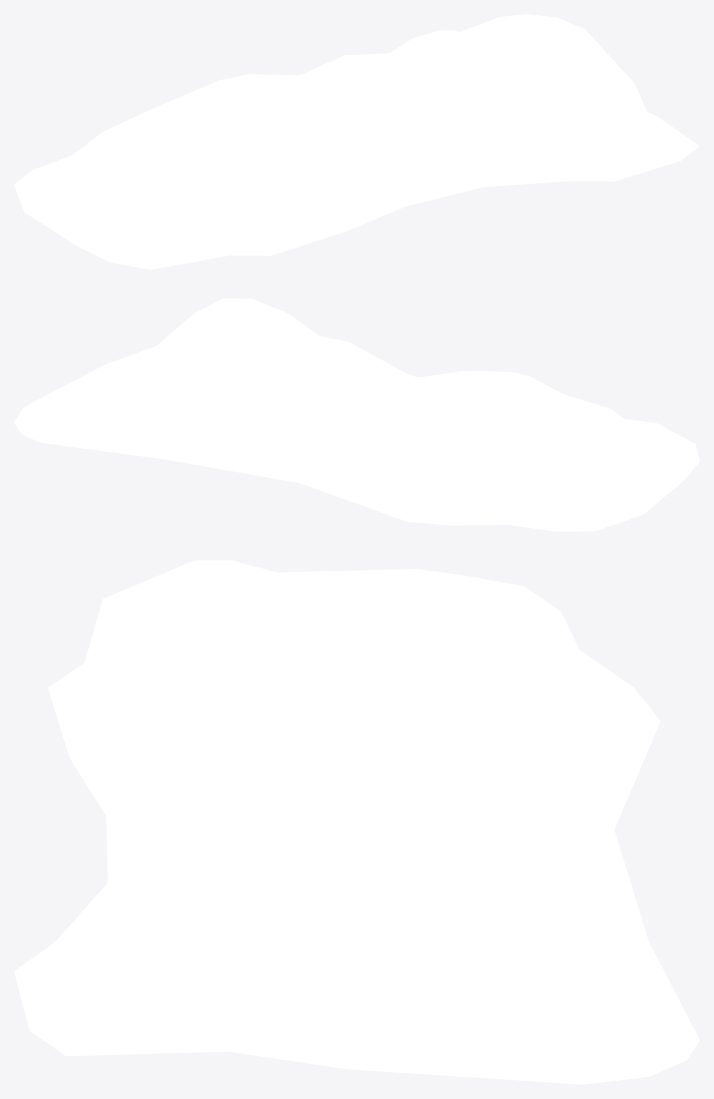
The model's file is polymountain5.glb.
3 views of the same model, one above another, from view 1: azimuth 30°, elevation 25°; view 2: azimuth 150°, elevation 25°; view 3: azimuth 270°, elevation 25° (orthographic). The views are drawn at different scales.
Parts seen in each view (by area): view 1: PolyMountain5; view 2: PolyMountain5; view 3: PolyMountain5.
Part boxes in pixels (box(x1,y1,x2,y2)): PolyMountain5: box(14, 14, 699, 269); PolyMountain5: box(14, 298, 699, 531); PolyMountain5: box(14, 560, 699, 1084).
Bounding box in the file's own units: 39.08 × 5 × 21.97.
1 material, 1 textured.
